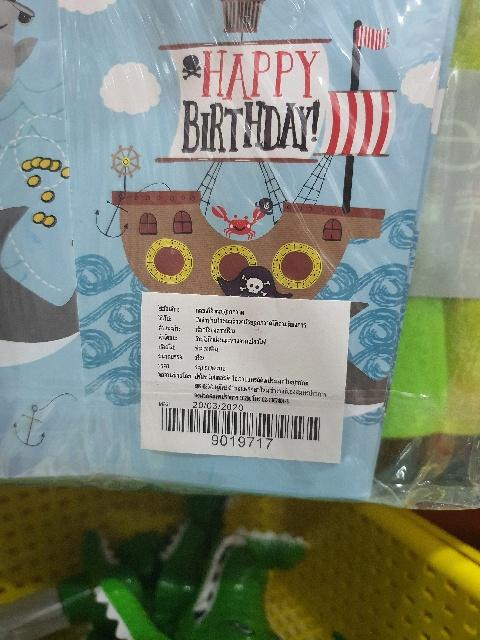Barcode: (156, 404, 328, 454)
